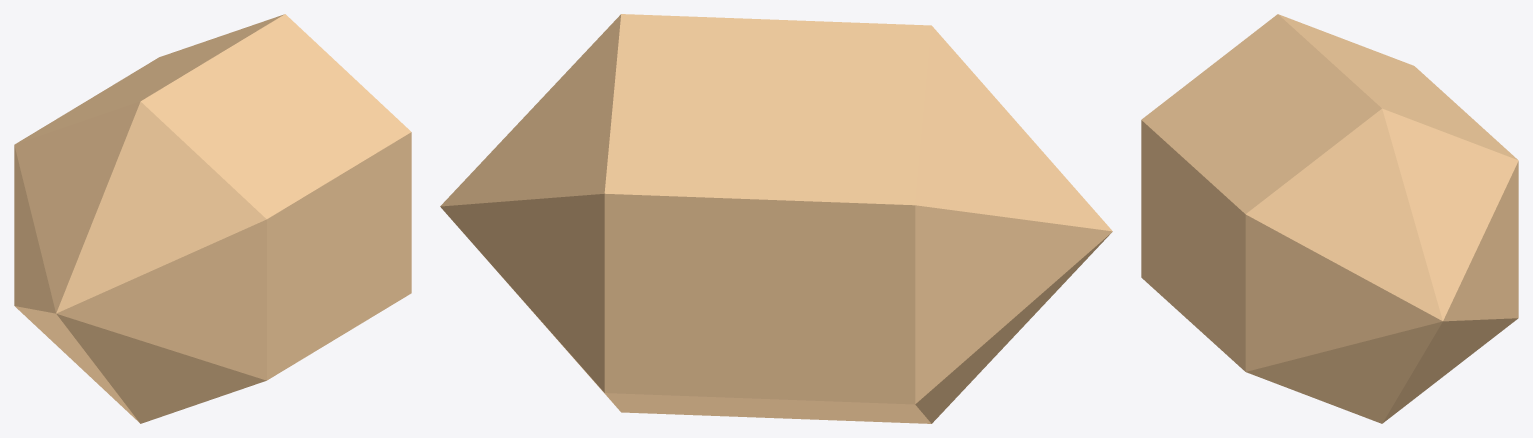
The model's file is gem_burrow.glb.
3 views of the same model, side by side, from view 1: azimuth 30°, elevation 25°; view 2: azimuth 150°, elevation 25°; view 3: azimuth 270°, elevation 25° (orthographic). The views are drawn at different scales.
Parts seen in each view (by area): view 1: model; view 2: model; view 3: model.
Boxes of the visible parts, bbox=[...] form: model: bbox=[14, 14, 411, 423]; model: bbox=[440, 14, 1112, 423]; model: bbox=[1141, 14, 1518, 423].
Bounding box in the file's own units: 0.1532 × 0.11 × 0.1193.
